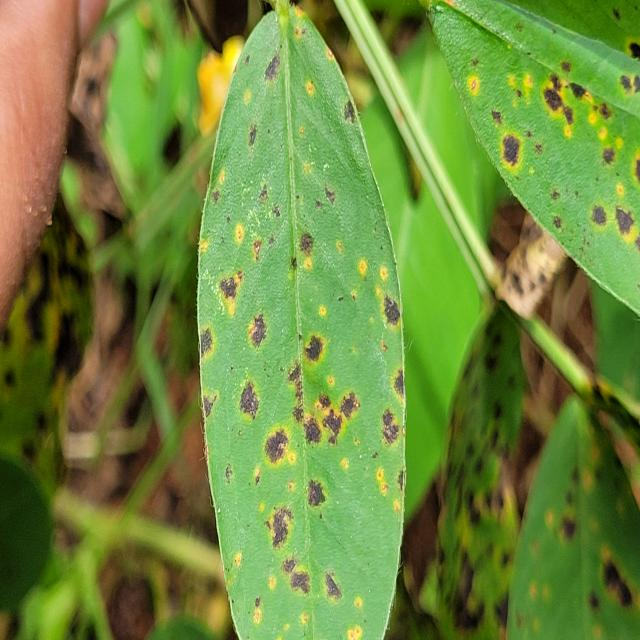Ground nut_tikka leaf spot: (196, 0, 407, 640)
